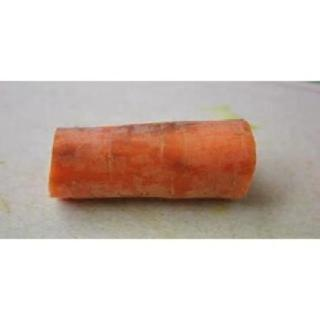carrot: (39, 112, 263, 216)
